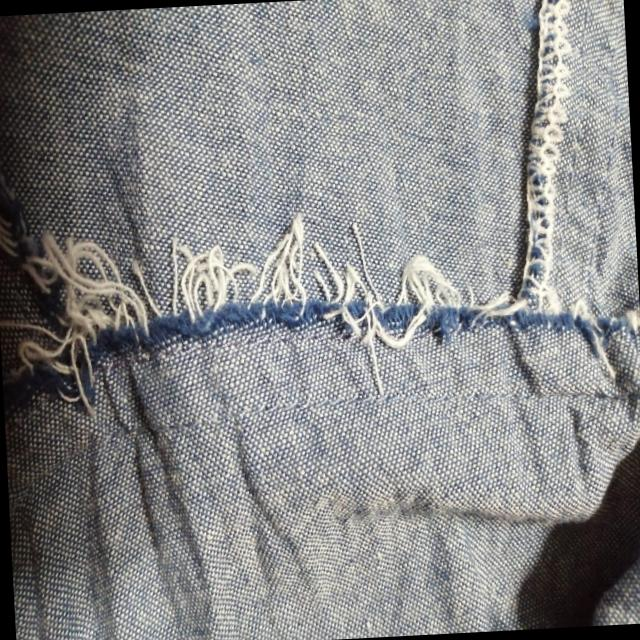gray stitch: (504, 0, 589, 320)
